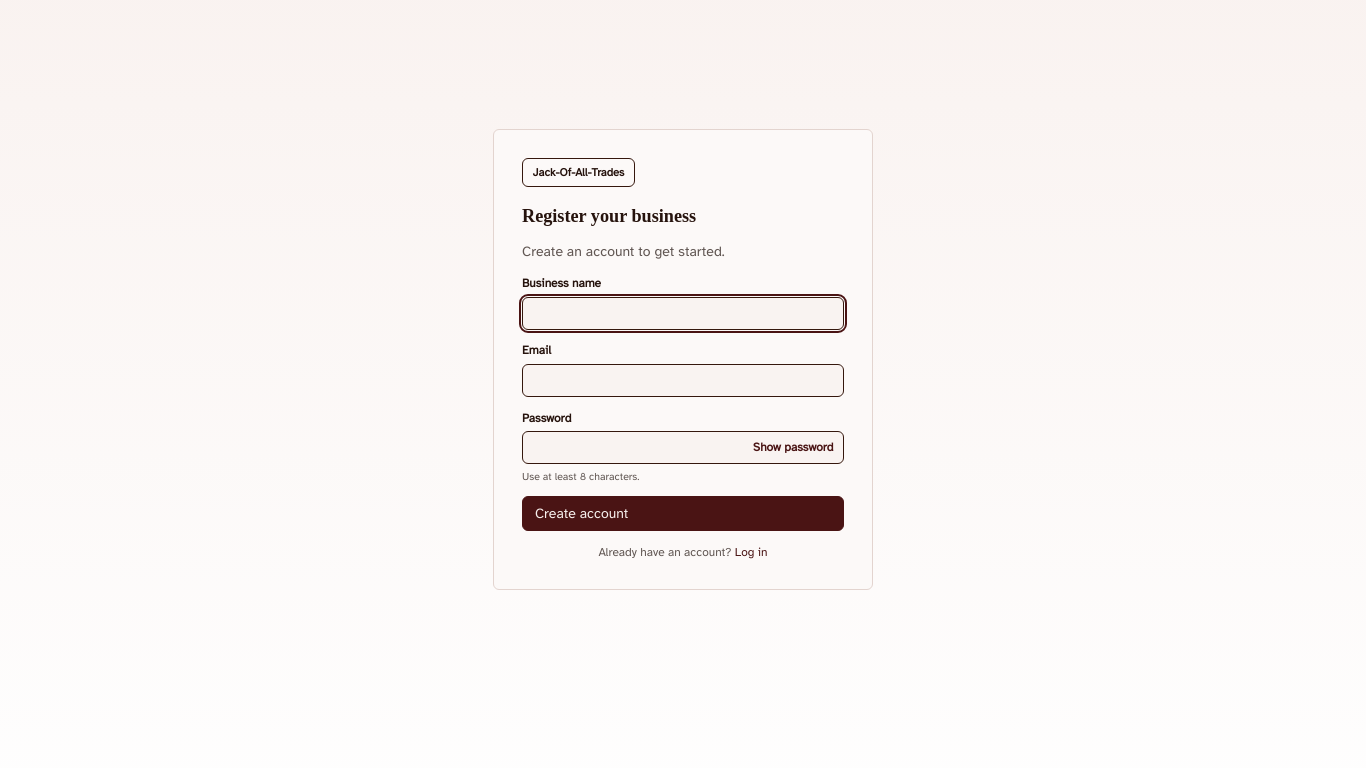
Scenario: authentication pages › suggests logging in when the email is already registered
Type "Test Business" into the field labelled "Business name" at (683, 313), box [522,297,844,330]
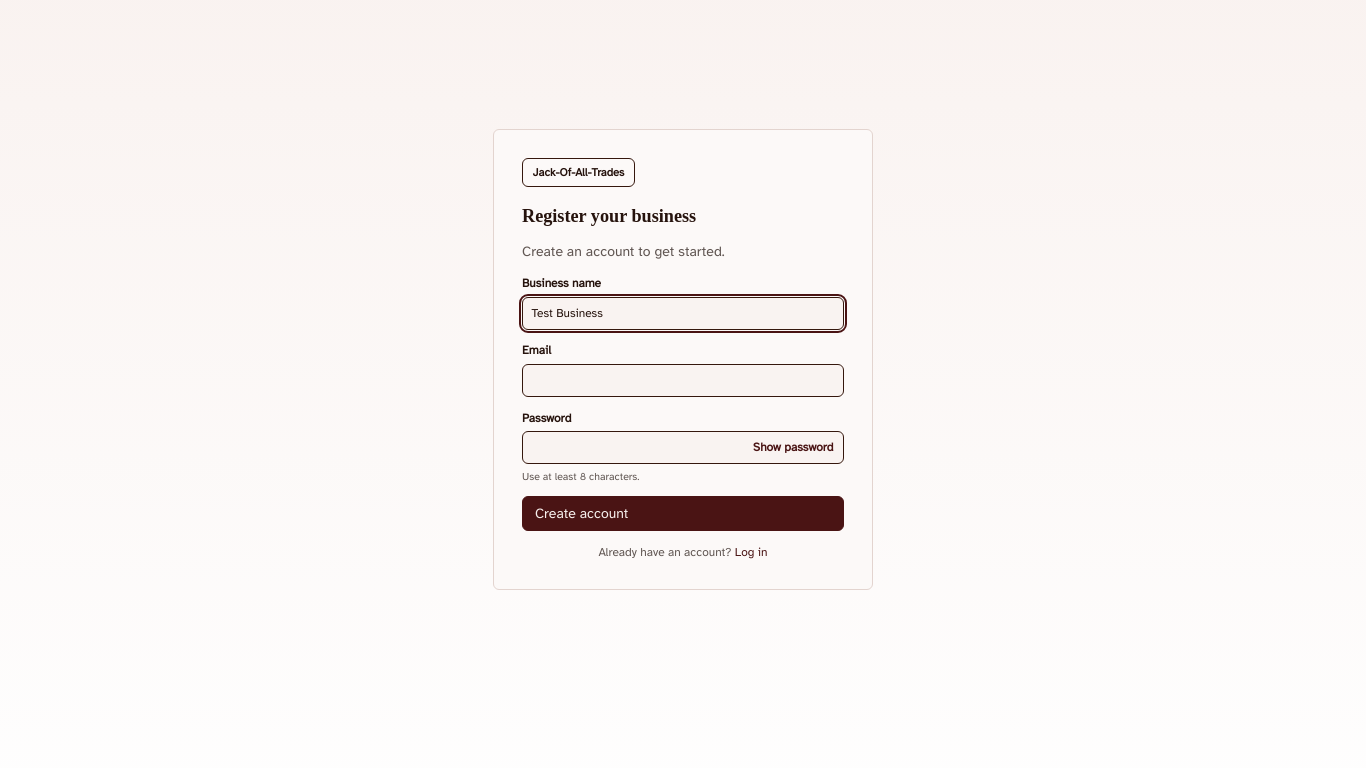
Type "owner@example.com" into the field labelled "Email" at (683, 380), box [522,364,844,397]
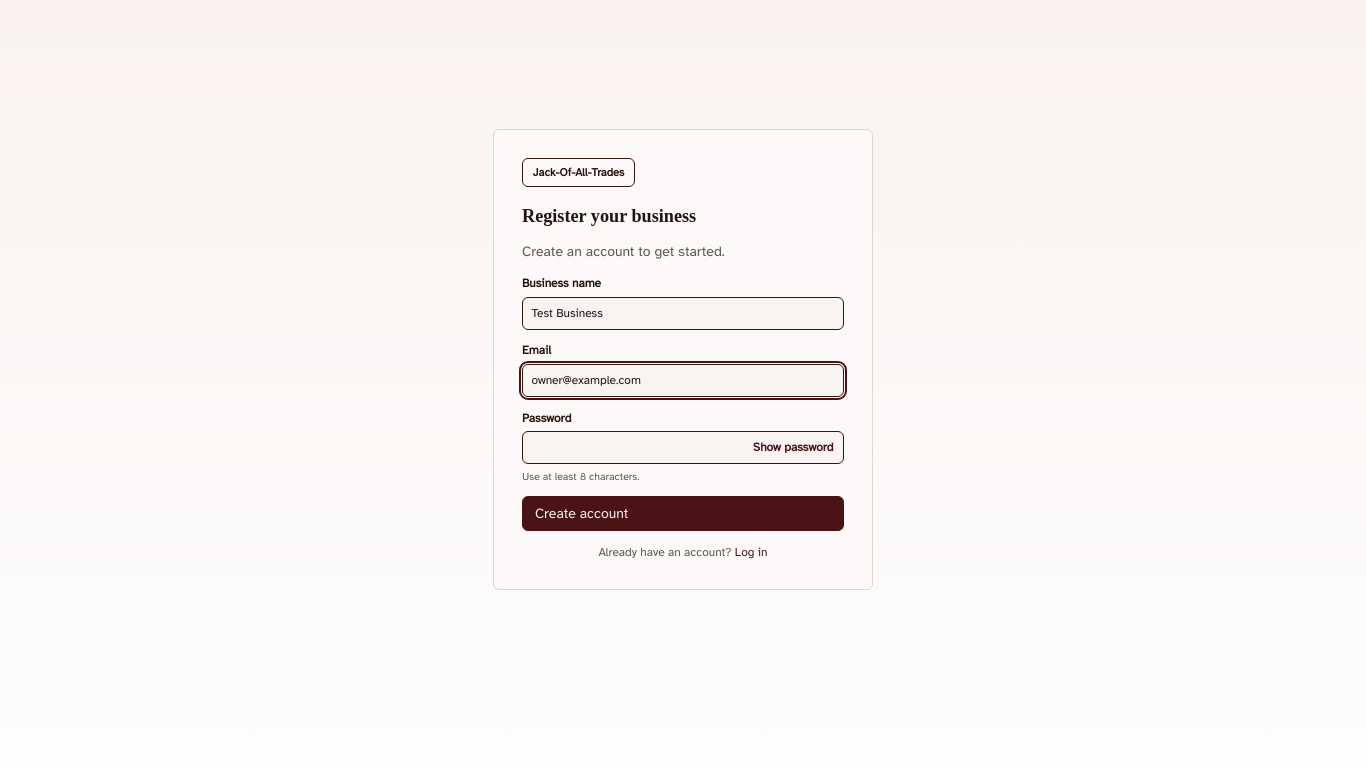
Type "password123" into the password field labelled "Password" at (683, 448), box [522,431,844,464]
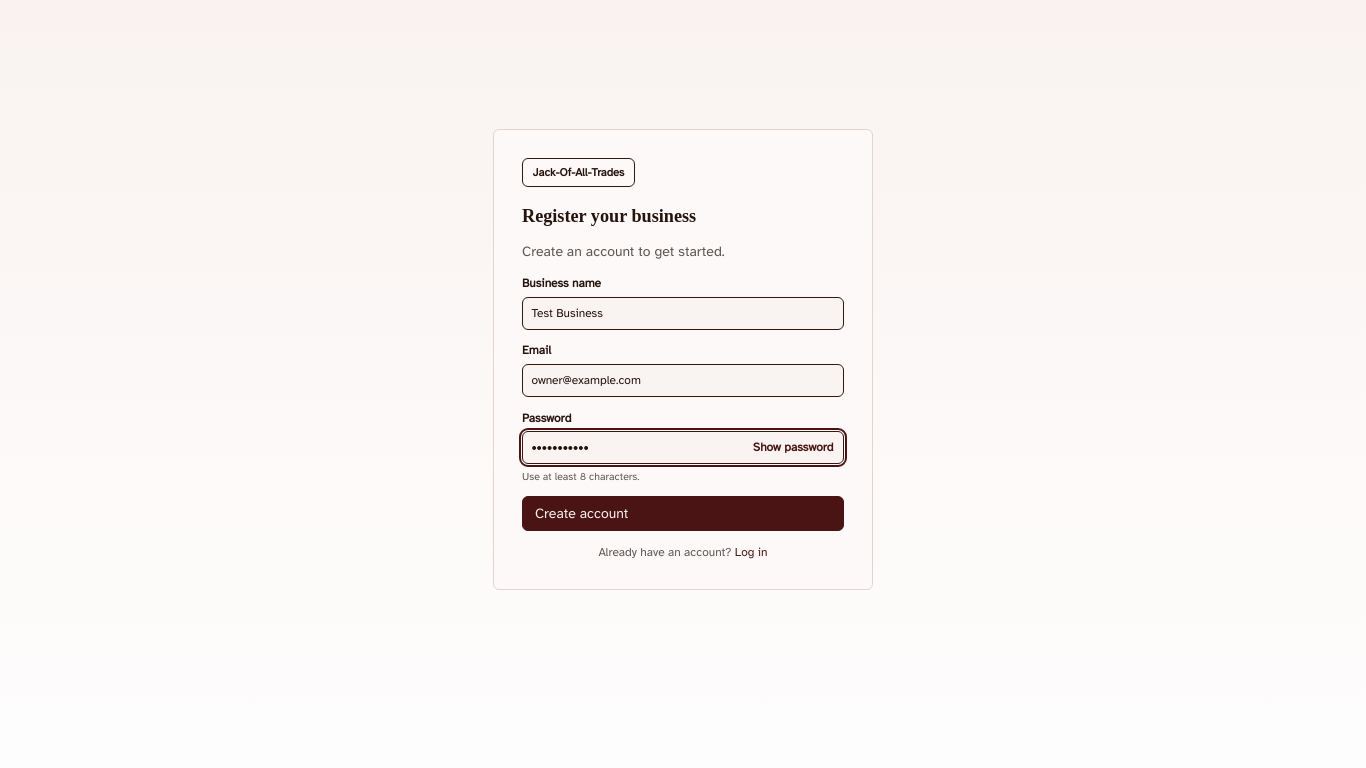
Click the button "Create account" at (582, 513), box [522,496,844,531]
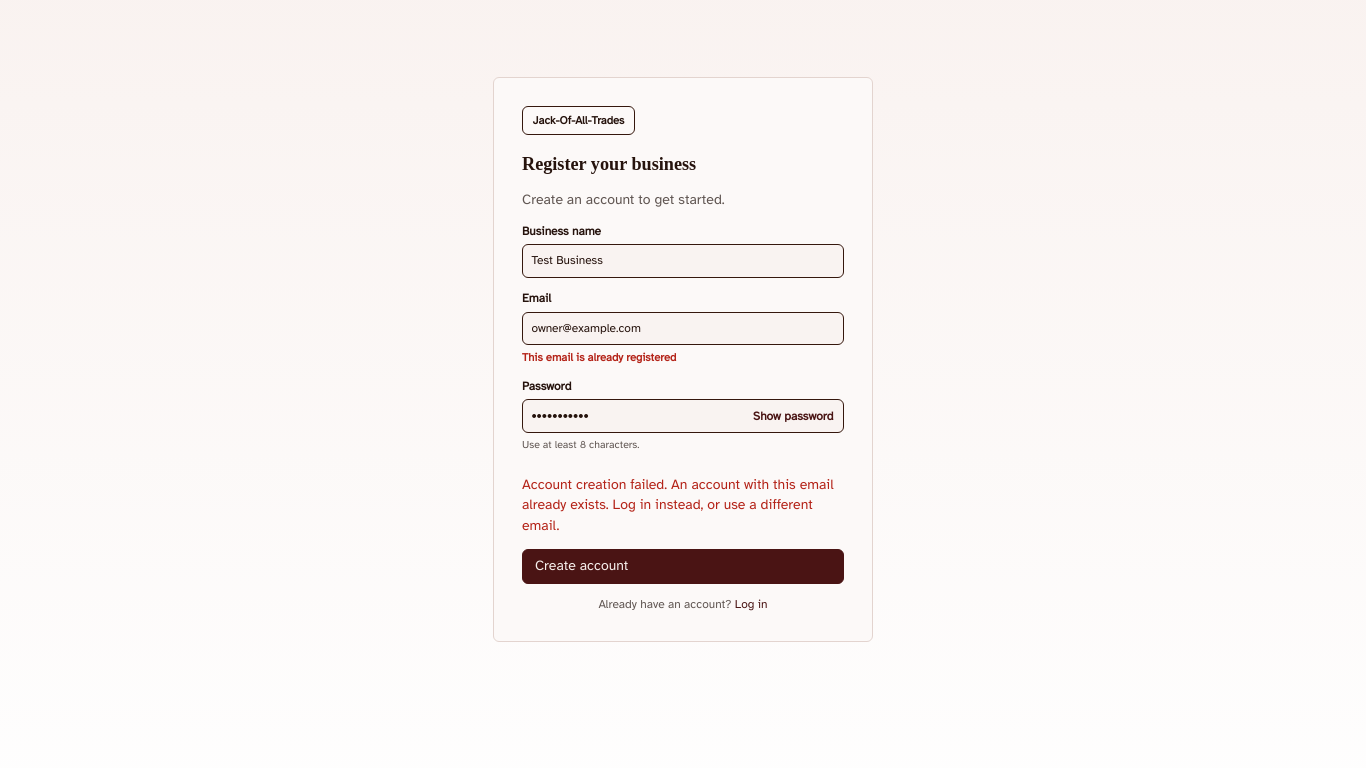
Now the text "This email is already registered" is shown, box [522,350,676,364]
Now the text "Account creation failed. An account with this email already exists. Log in instead, or use a different email." is shown, box [522,476,834,534]
